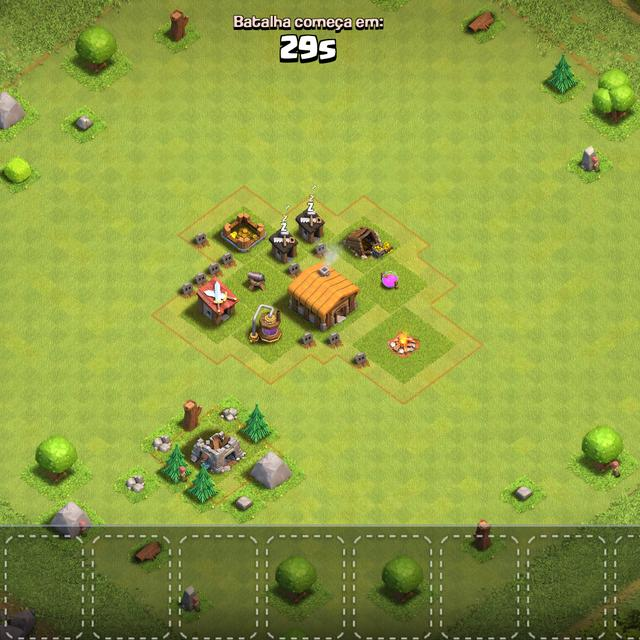Canhao: (245, 269, 268, 292)
